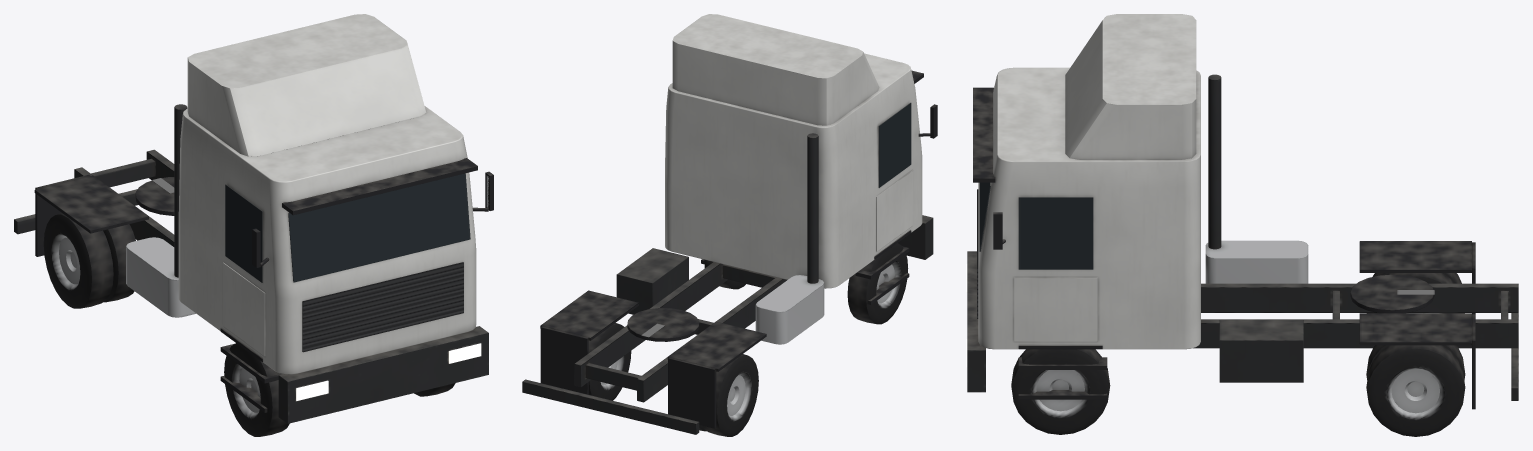
Rendered from TractorUnit.fbx.
3 renders of one model, left to right at view 1: azimuth 30°, elevation 25°; view 2: azimuth 150°, elevation 25°; view 3: azimuth 270°, elevation 25°, orthographic. The views are drawn at different scales.
Visible parts, largest first — view 1: TractorUnit_LOD0, Axle_R_LOD0, Wheel_FR_LOD0; view 2: TractorUnit_LOD0, Axle_R_LOD0, Wheel_FR_LOD0; view 3: TractorUnit_LOD0, Axle_R_LOD0, Wheel_FL_LOD0.
Part boxes in pixels (bbox=[...]): TractorUnit_LOD0: bbox=[14, 14, 493, 423]; Axle_R_LOD0: bbox=[43, 213, 135, 308]; Wheel_FR_LOD0: bbox=[224, 343, 289, 436]; TractorUnit_LOD0: bbox=[522, 14, 937, 434]; Axle_R_LOD0: bbox=[588, 323, 758, 436]; Wheel_FR_LOD0: bbox=[847, 243, 908, 324]; TractorUnit_LOD0: bbox=[966, 14, 1518, 409]; Axle_R_LOD0: bbox=[1366, 273, 1465, 436]; Wheel_FL_LOD0: bbox=[1011, 349, 1110, 434].
Size of what is drawn, in the model's own units: 2.95 by 3.9 by 5.91.
Materials: 1 (1 with a texture image).
